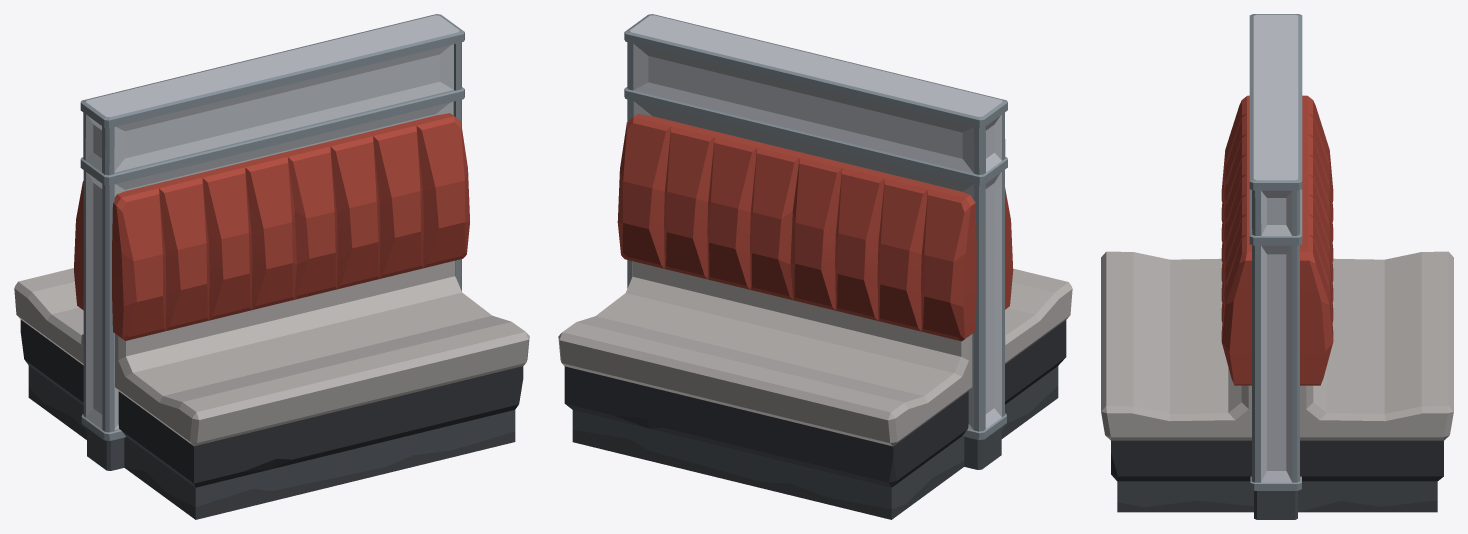
Rendered from SM_Prop_Cafe_Booth_Wall_Seat_Double_01.obj.
The picture shows the model from 3 angles, left to right: view 1: azimuth 30°, elevation 25°; view 2: azimuth 150°, elevation 25°; view 3: azimuth 270°, elevation 25°; orthographic projection. The views are drawn at different scales.
Parts seen in each view (by area): view 1: SM_Prop_Cafe_Booth_Wall_Seat_Double_01_0; view 2: SM_Prop_Cafe_Booth_Wall_Seat_Double_01_0; view 3: SM_Prop_Cafe_Booth_Wall_Seat_Double_01_0.
Part boxes in pixels (bbox=[...]): SM_Prop_Cafe_Booth_Wall_Seat_Double_01_0: bbox=[14, 14, 529, 519]; SM_Prop_Cafe_Booth_Wall_Seat_Double_01_0: bbox=[558, 14, 1072, 519]; SM_Prop_Cafe_Booth_Wall_Seat_Double_01_0: bbox=[1101, 14, 1453, 519].
Bounding box in the file's own units: 2.03 × 1.9 × 1.79.
Materials: 1 (1 with a texture image).
